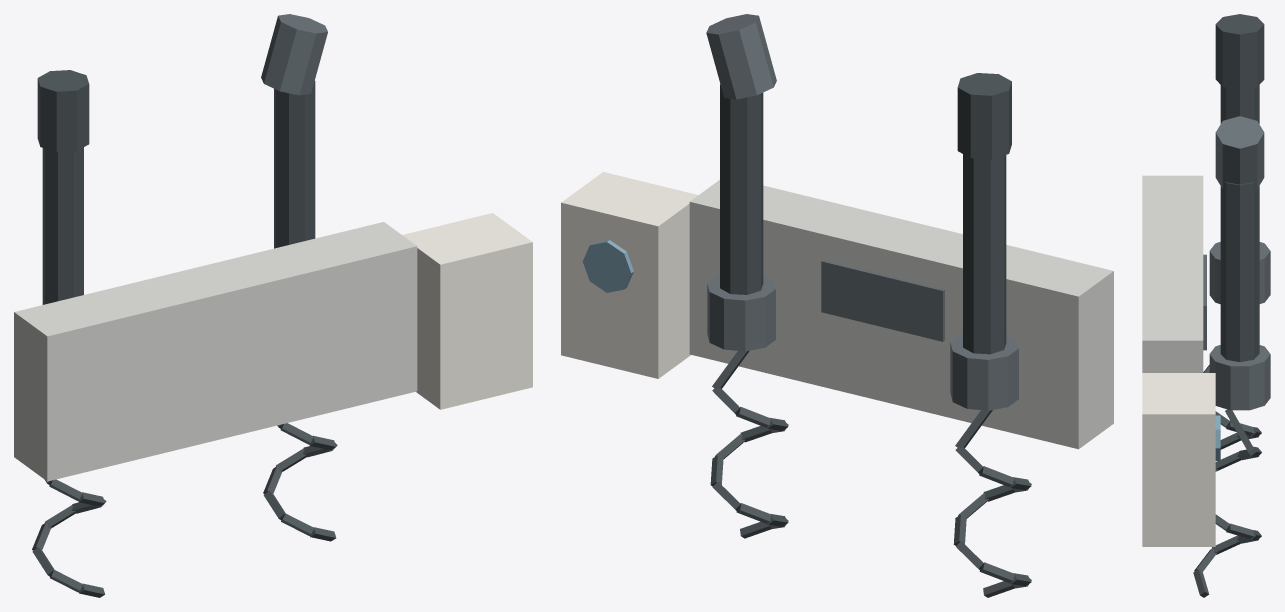
Rendered from diag_set.fbx.
3 renders of one model, left to right at view 1: azimuth 30°, elevation 25°; view 2: azimuth 150°, elevation 25°; view 3: azimuth 270°, elevation 25°, orthographic. The views are drawn at different scales.
Parts seen in each view (by area): view 1: diag_set; view 2: diag_set; view 3: diag_set.
Boxes of the visible parts, x1,y1,x2,y2 form: diag_set: [14, 14, 532, 597]; diag_set: [561, 14, 1113, 597]; diag_set: [1142, 14, 1270, 597].
Bounding box in the file's own units: 42 × 42.38 × 10.5.
